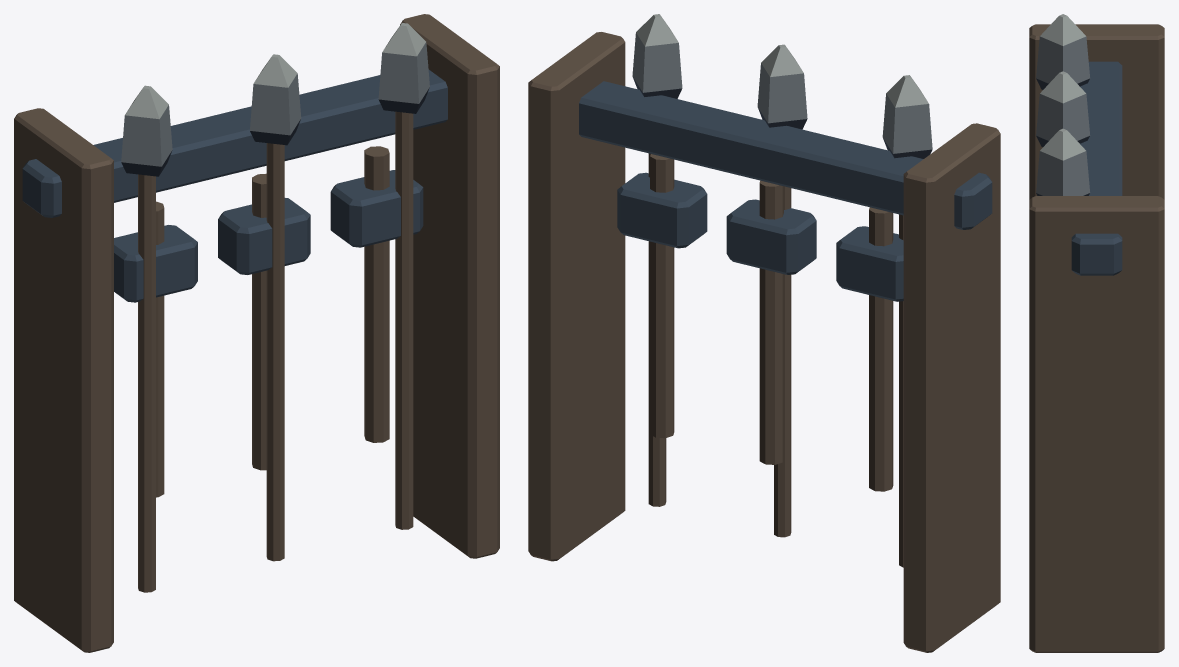
Rendered from weapon-rack.glb.
3 renders of one model, left to right at view 1: azimuth 30°, elevation 25°; view 2: azimuth 150°, elevation 25°; view 3: azimuth 270°, elevation 25°, orthographic. The views are drawn at different scales.
Parts seen in each view (by area): view 1: weapon-rack__body; view 2: weapon-rack__body; view 3: weapon-rack__body.
Part boxes in pixels (x1=…): weapon-rack__body: x1=14, y1=14, x2=499, y2=652; weapon-rack__body: x1=528, y1=14, x2=1000, y2=652; weapon-rack__body: x1=1029, y1=14, x2=1164, y2=652.
Bounding box in the file's own units: 1.4 × 1.59 × 0.4.
